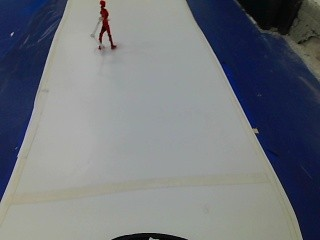pedestrian: (88, 0, 123, 55)
